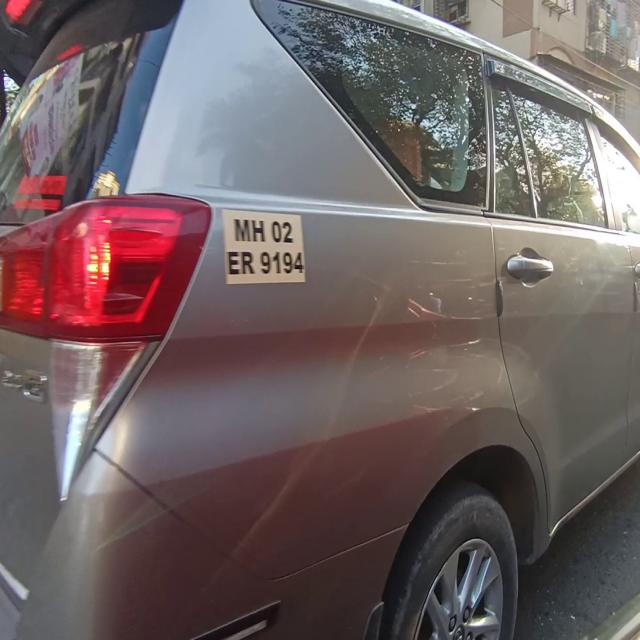Plate: (224, 209, 306, 283)
